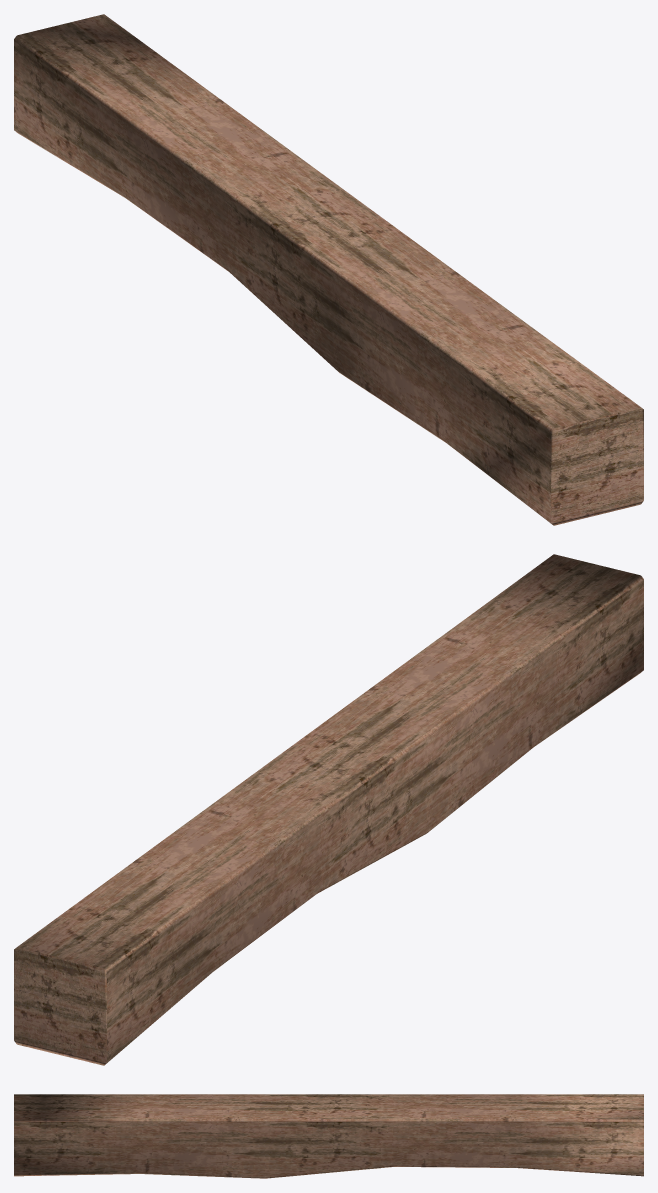
File: SM_beam_02.gltf
3 renders of one model, top to bottom at view 1: azimuth 30°, elevation 25°; view 2: azimuth 150°, elevation 25°; view 3: azimuth 270°, elevation 25°, orthographic. The views are drawn at different scales.
Parts seen in each view (by area): view 1: SM_beam_02; view 2: SM_beam_02; view 3: SM_beam_02.
Part boxes in pixels (x1,y1,x2,y2): SM_beam_02: [14, 14, 643, 525]; SM_beam_02: [14, 554, 643, 1065]; SM_beam_02: [14, 1094, 643, 1178].
Size of the model in its own units: 0.5 by 0.5207 by 5.
Materials: 1 (1 with a texture image).
